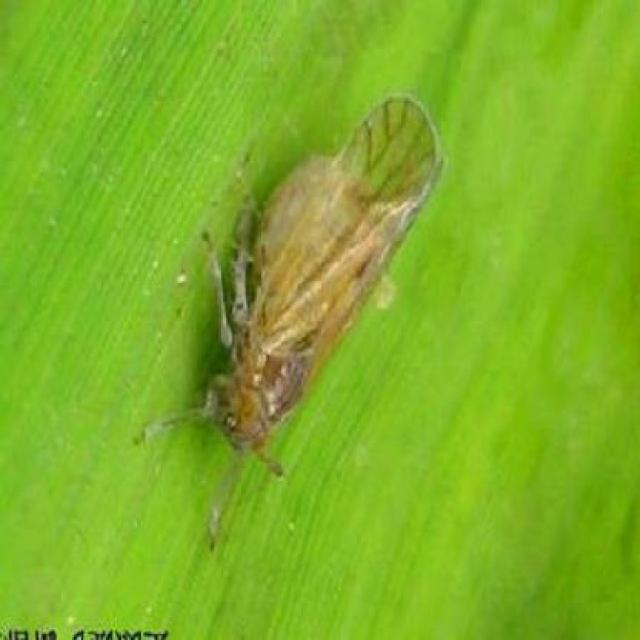brown-planthopper: (169, 88, 449, 483)
